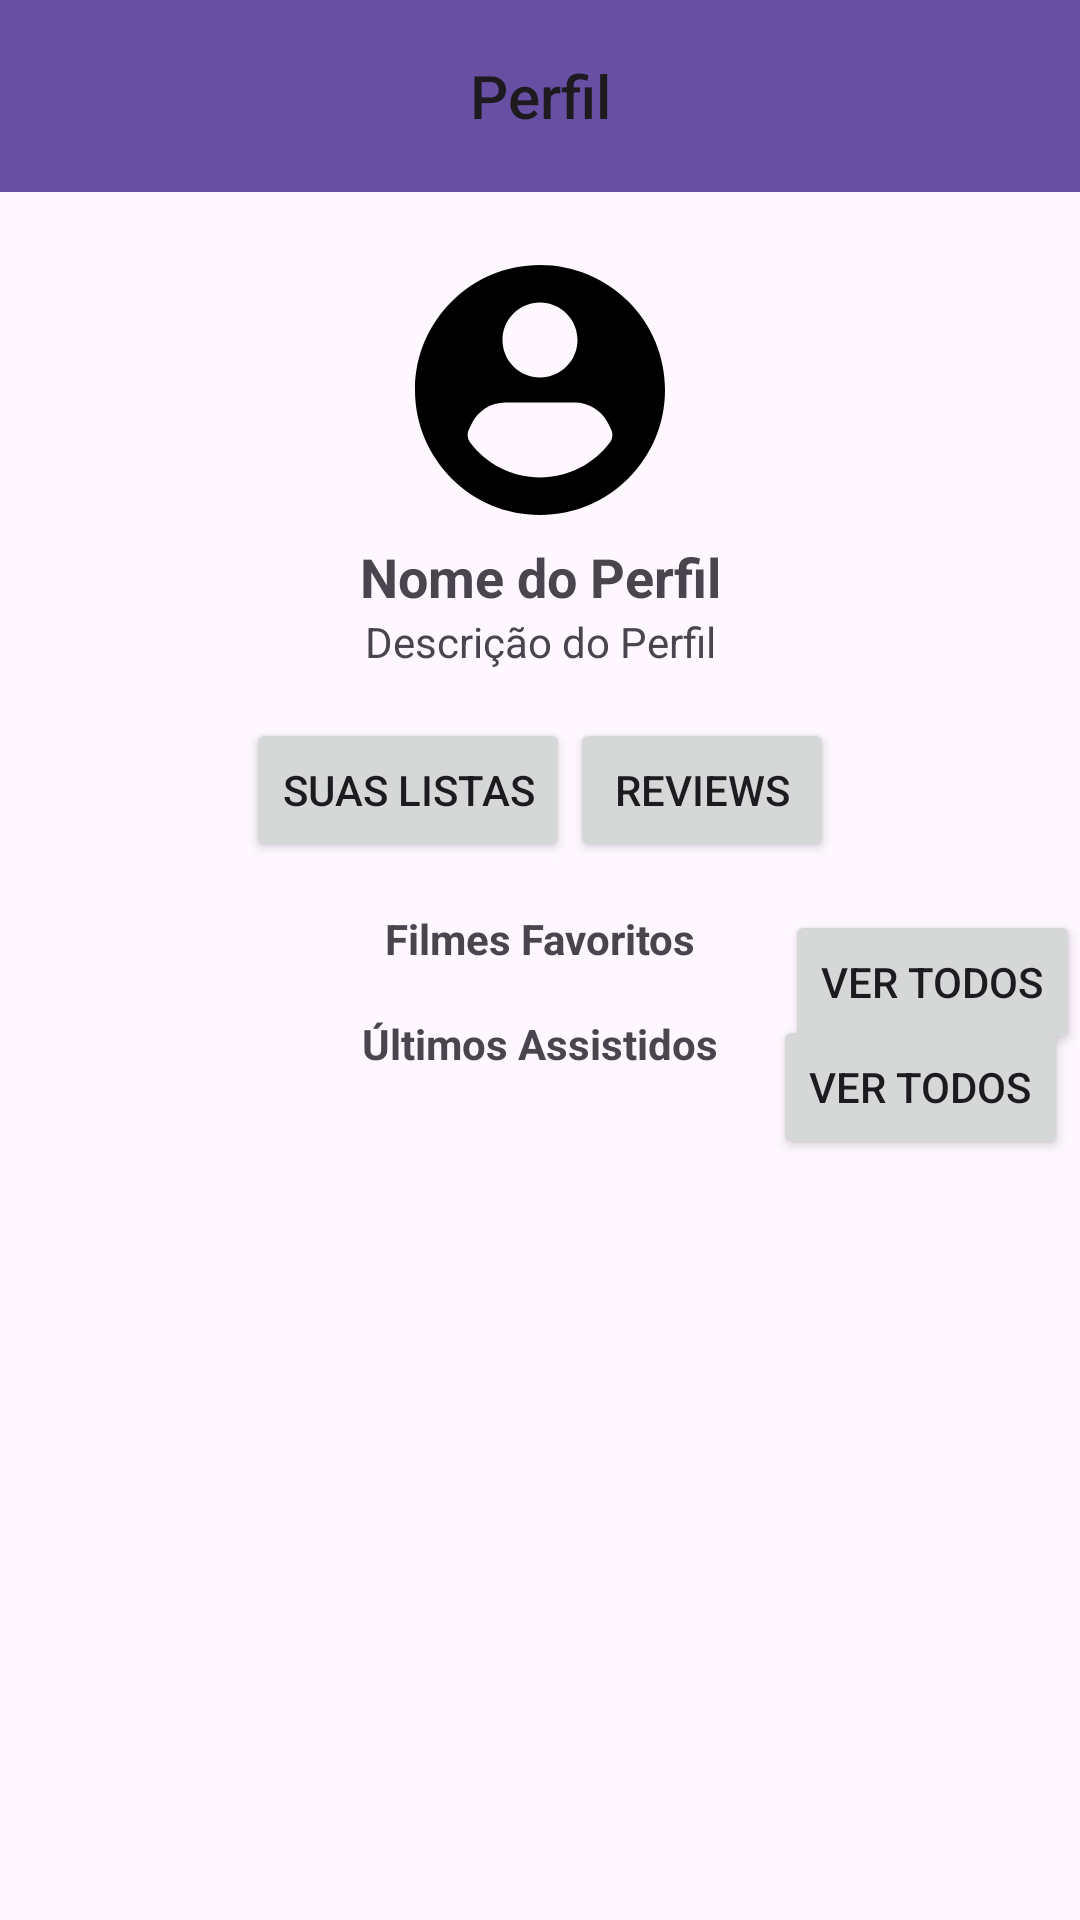

Named icons in this screenshot (1080 × 1920) and their centers, point (x, y):
Profile Image: point (540, 390)
